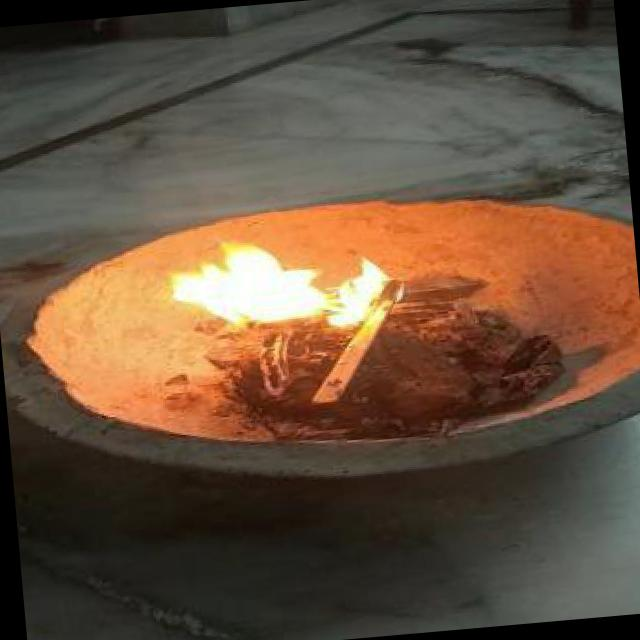Fire: (161, 212, 419, 347)
